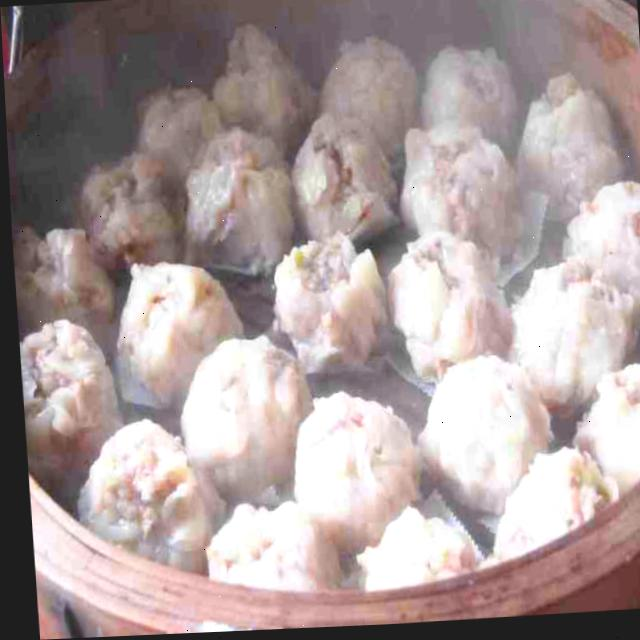带馅早点: (1, 0, 640, 582)
